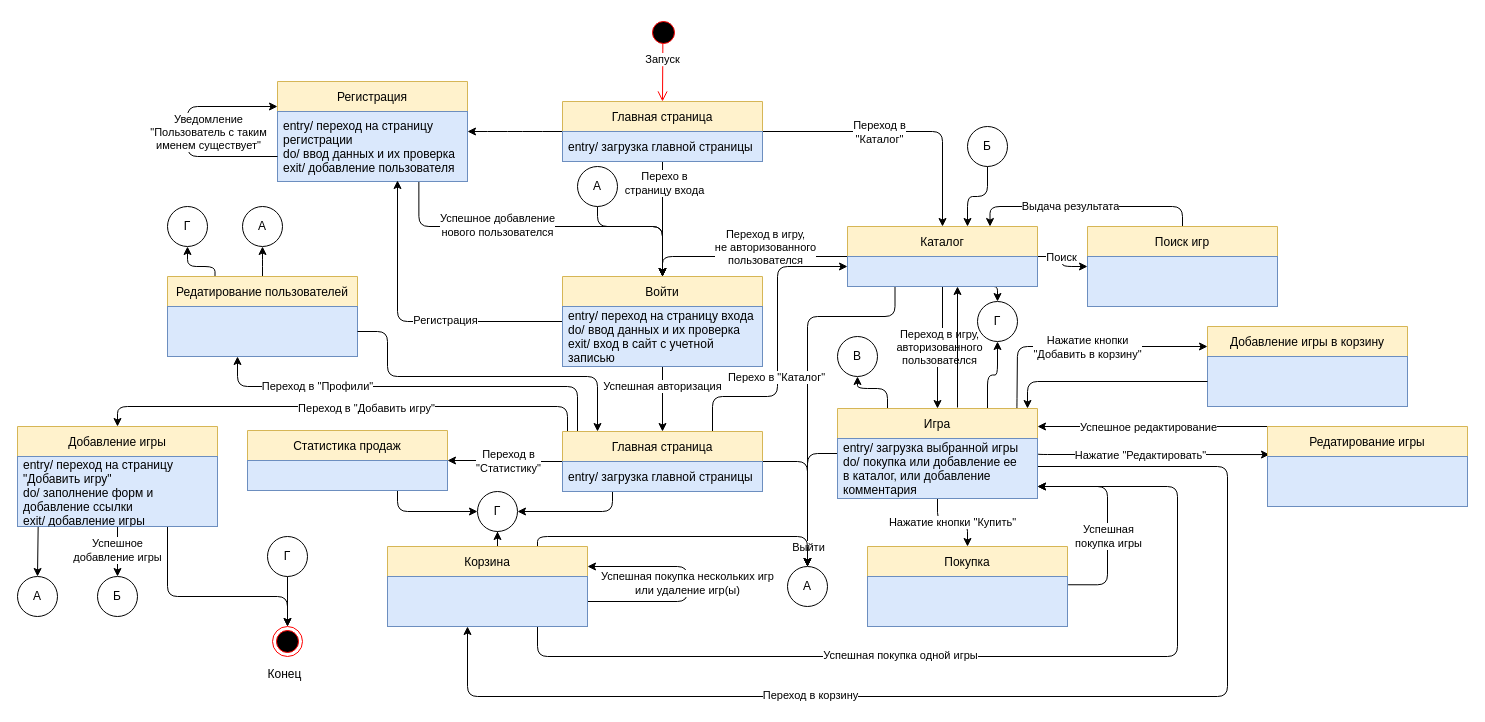
Image size: 1485x722. Some labels were removed from this diagram. The centre of each missing label's shape, as x and y in pixels:
do/ выбор жинра и диапазон год exit/ Нахождение игр по требованию: (x=1182, y=281)
do/ покупка игры exit/ переход в страницу купленной игры для скачивания: (x=967, y=601)
entry/ добавление игры в корзину exit/ переход обратно в страницу игры: (x=1307, y=381)
entry/ загрузка всех игр или по требованию: (x=942, y=271)
entry/ загрузка корзины do/ покупка или удаления из корзины игру(ы): (x=487, y=601)
entry/ загрузка статистики продаж: (x=347, y=475)
entry/ загрузка форм do/ изменение форм и ссылки exit/ редактирование игры: (x=1367, y=481)
entry/ переход на страницу "Профили" do/ изменение данных и ролей: (x=262, y=331)
